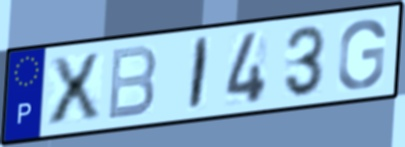3: (281, 22, 328, 99)
4: (223, 28, 270, 107)
B: (105, 43, 160, 123)
G: (335, 17, 388, 92)
I: (185, 34, 213, 114)
X: (47, 50, 103, 128)
